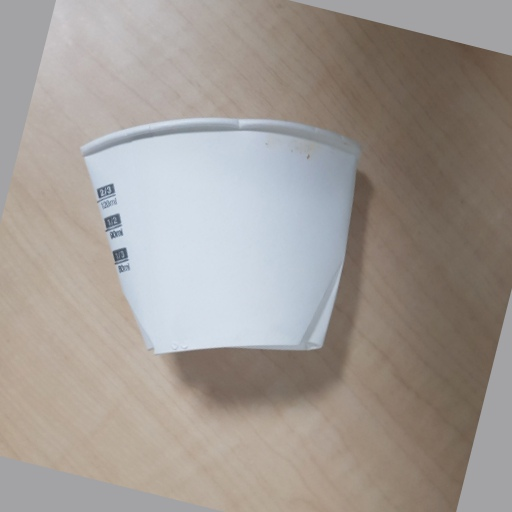Paper_1: (79, 112, 363, 358)
